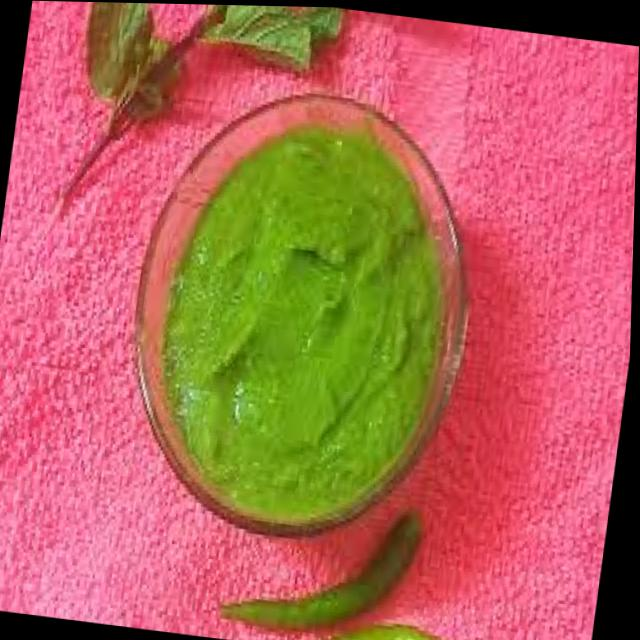GREEN CHUTNEY: (123, 76, 506, 543)
